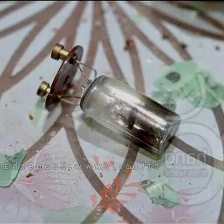light_bulb: (32, 37, 184, 162)
